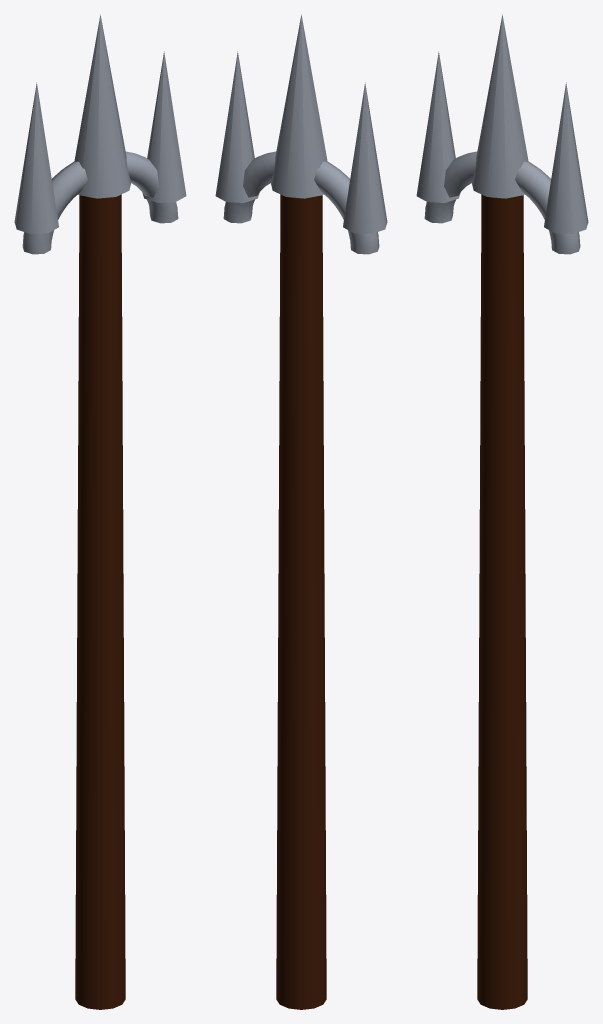
Rendered from trishul.glb.
3 renders of one model, left to right at view 1: azimuth 30°, elevation 25°; view 2: azimuth 150°, elevation 25°; view 3: azimuth 330°, elevation 25°, orthographic.
Parts seen in each view (by area): view 1: shaft, prongs; view 2: shaft, prongs; view 3: shaft, prongs.
Part boxes in pixels (x1,y1,x2,y2): shaft: [75, 194, 125, 1009]; prongs: [14, 14, 186, 254]; shaft: [276, 194, 326, 1009]; prongs: [215, 14, 387, 254]; shaft: [477, 194, 527, 1009]; prongs: [416, 14, 588, 254].
Size of the model in its own units: 0.184 by 1.03 by 0.06.
